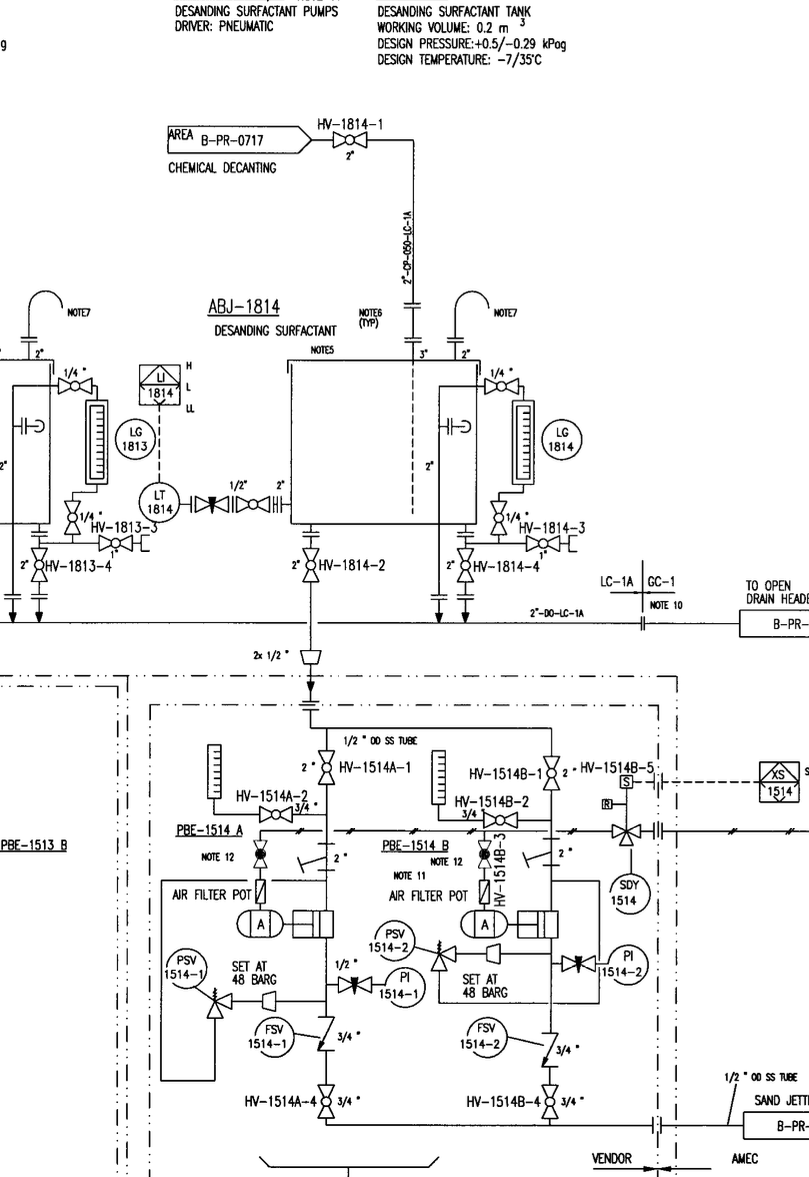Instrument: (537, 414, 589, 472), (110, 409, 157, 462), (131, 480, 185, 524)
Instrument-offset: (239, 1015, 306, 1064), (601, 865, 650, 922), (163, 942, 216, 994), (374, 964, 429, 1014), (454, 1014, 510, 1063), (596, 943, 655, 989), (366, 917, 418, 961)
Instrument-square: (745, 746, 803, 812)
